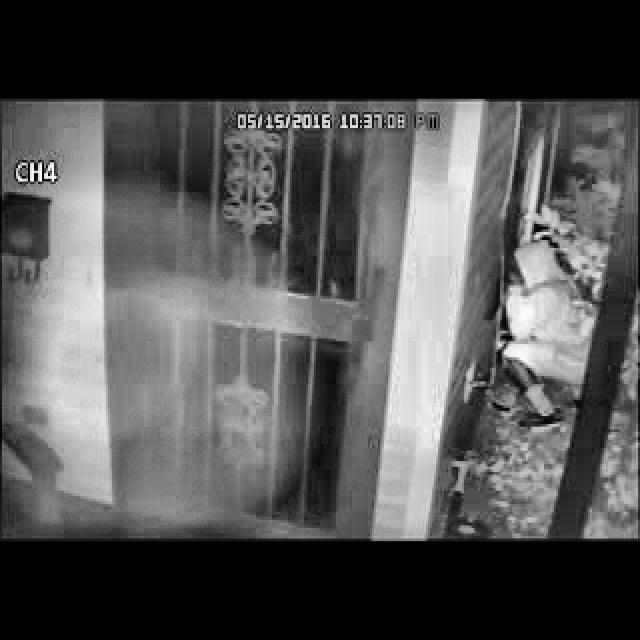burglary: (486, 216, 616, 437)
